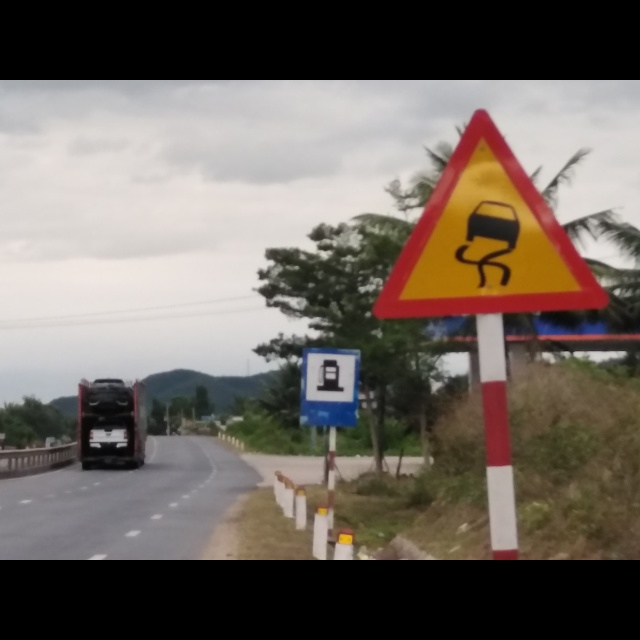Đường trơn trượt: (358, 108, 605, 323)
